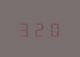three: (18, 20, 31, 37)
two: (33, 20, 46, 37)
zero: (47, 20, 60, 37)
